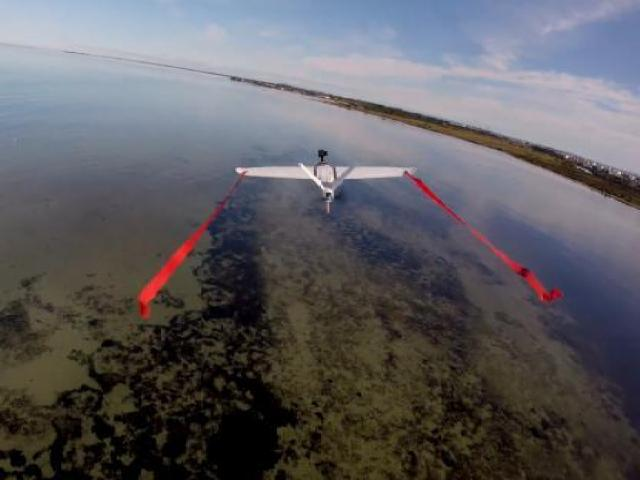uav: (235, 160, 418, 198)
